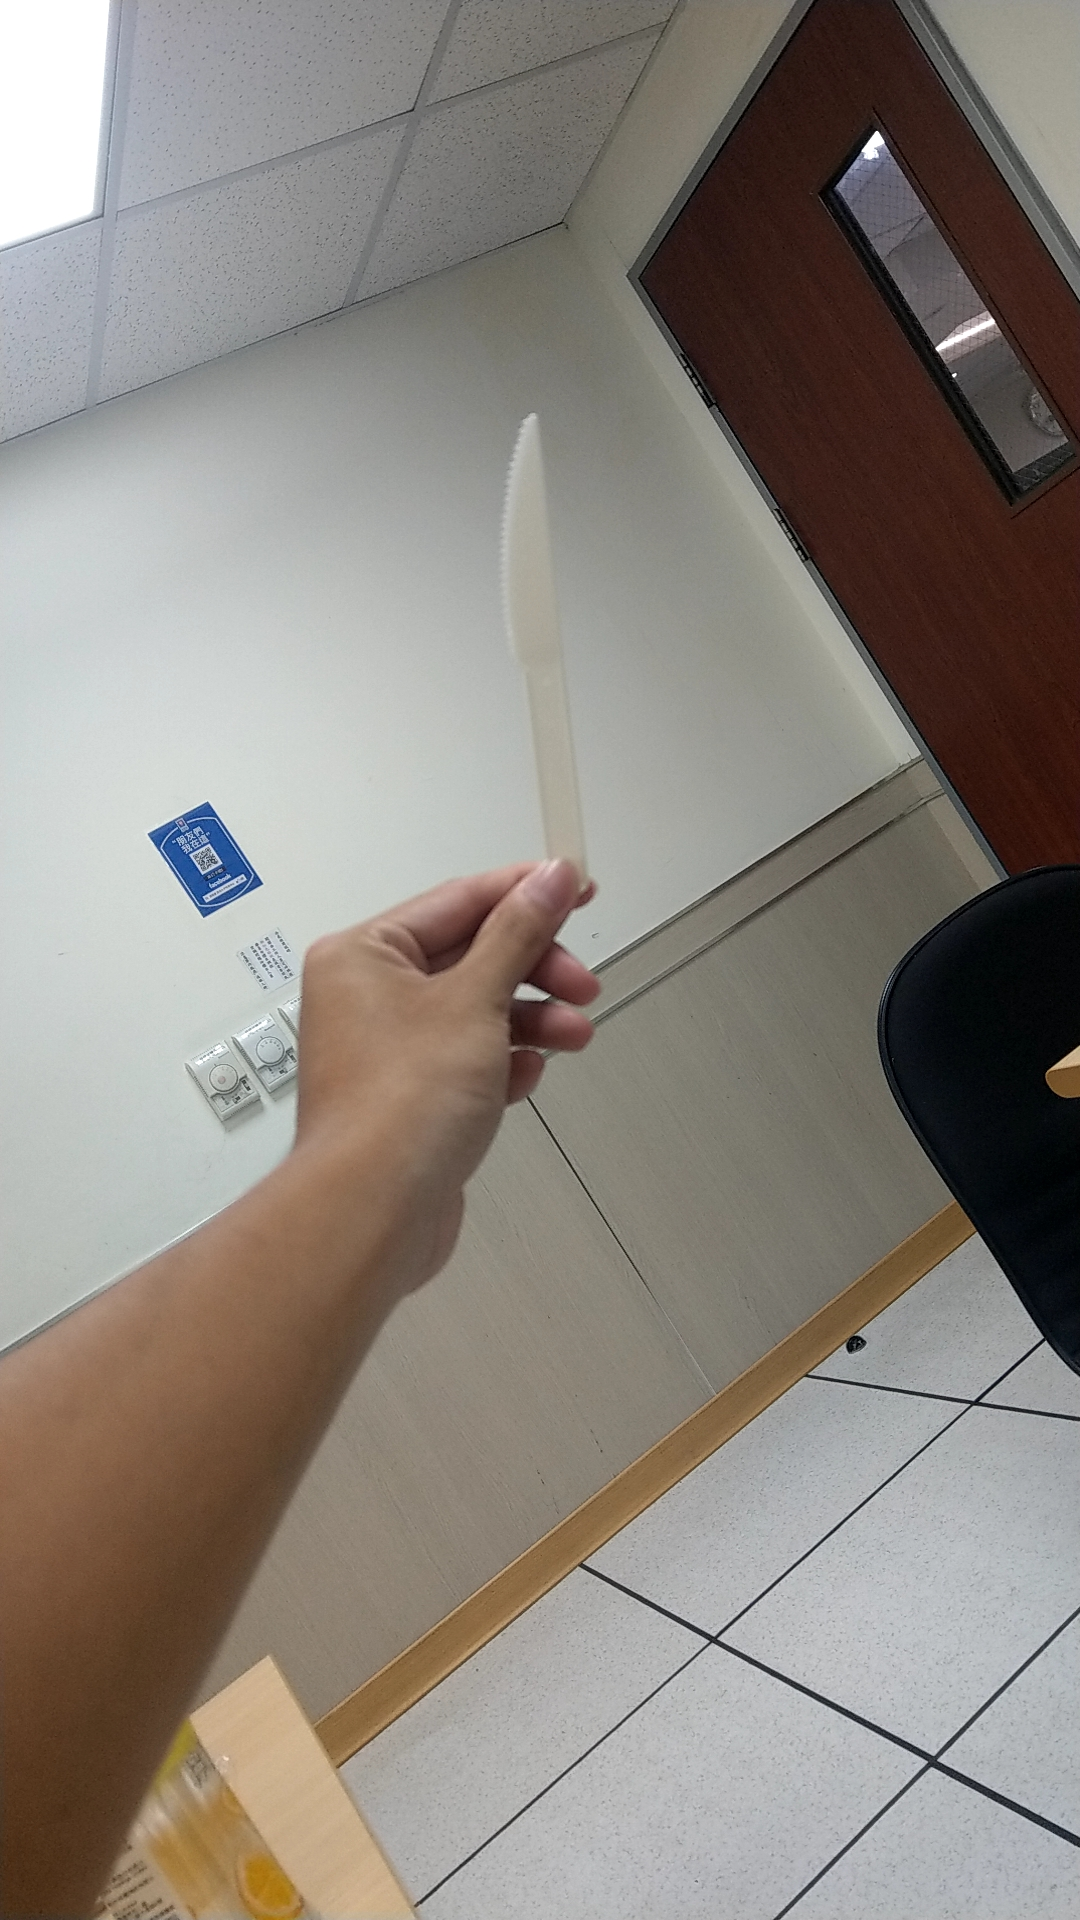knife: (462, 397, 615, 872)
